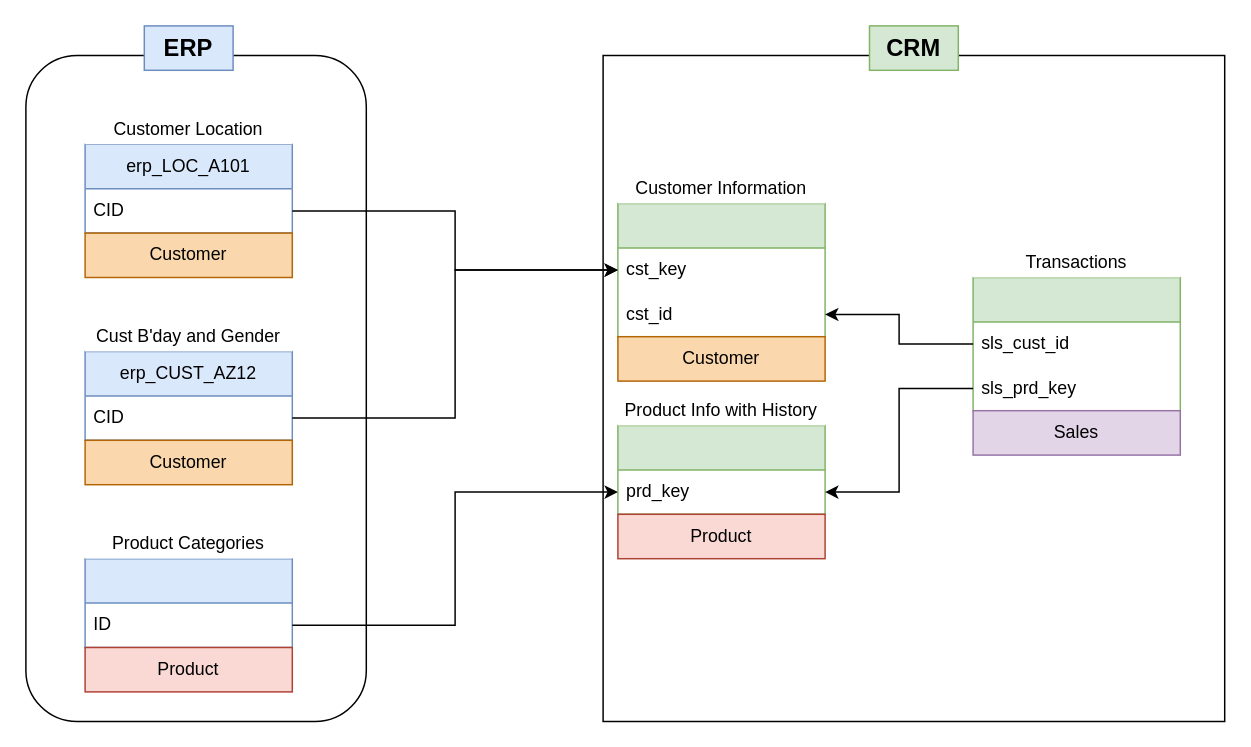
Image size: 1251x747. Some labels were removed from this diagram. Each missing label, with the box of its shape:
crm_cust_info: (616, 202, 825, 337)
crm_prd_info: (616, 424, 825, 514)
crm_sales_details: (972, 276, 1180, 411)
erp_PX_CAT_G1V2: (84, 557, 292, 648)
